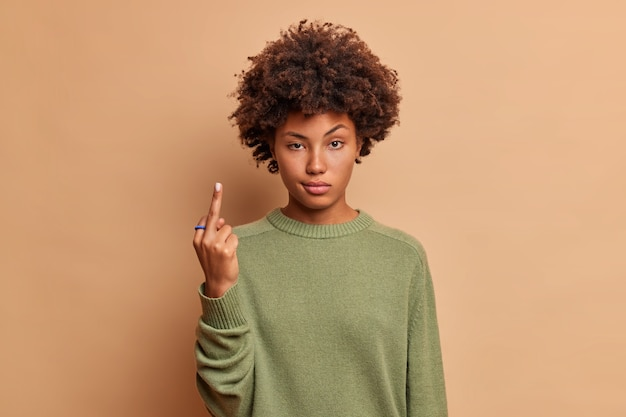insulting_gesture: (193, 179, 242, 290)
